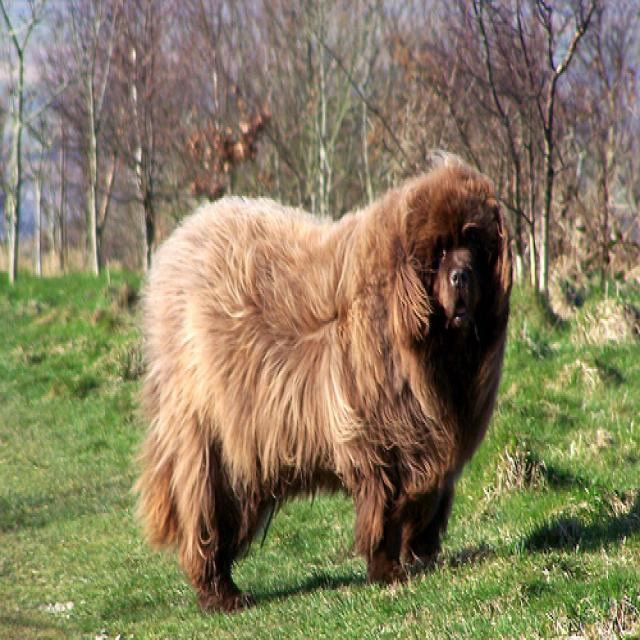dog-newfoundland: (133, 150, 521, 623)
